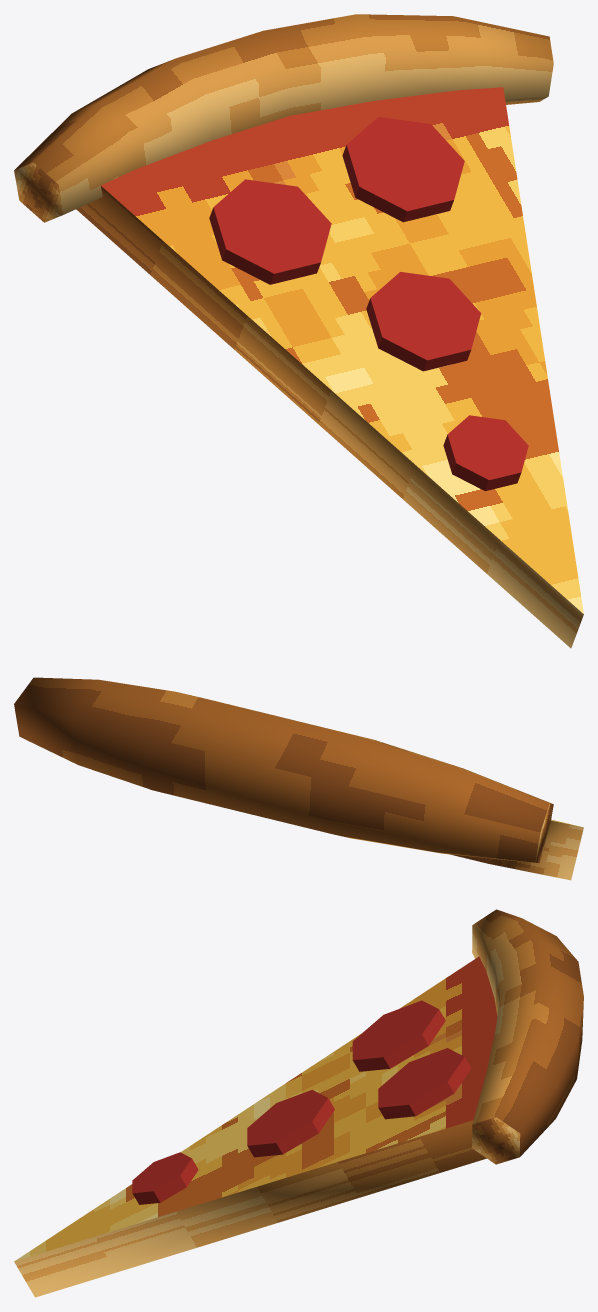
The model's file is meals-pizzaSlice.glb.
3 renders of one model, top to bottom at view 1: azimuth 30°, elevation 25°; view 2: azimuth 150°, elevation 25°; view 3: azimuth 270°, elevation 25°, orthographic. The views are drawn at different scales.
Parts seen in each view (by area): view 1: meals.pizzaSlice; view 2: meals.pizzaSlice; view 3: meals.pizzaSlice.
Part boxes in pixels (x1,y1,x2,y2): meals.pizzaSlice: (14, 14, 583, 648); meals.pizzaSlice: (14, 677, 583, 880); meals.pizzaSlice: (14, 909, 583, 1297).
Bounding box in the file's own units: 1.41 × 1.01 × 1.61.
3 materials, 2 textured.
